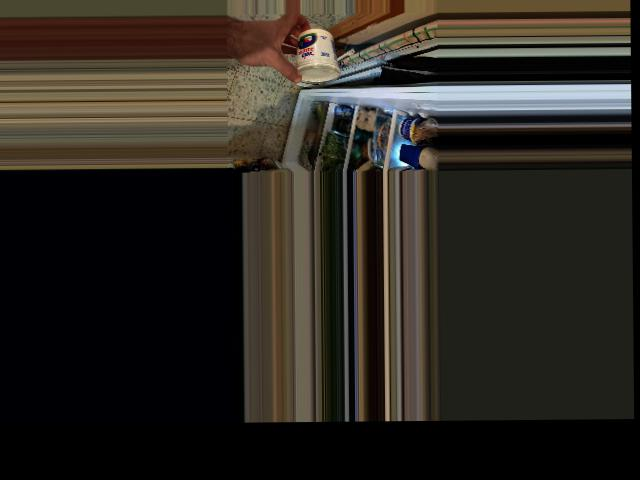cotage: (287, 27, 344, 86)
